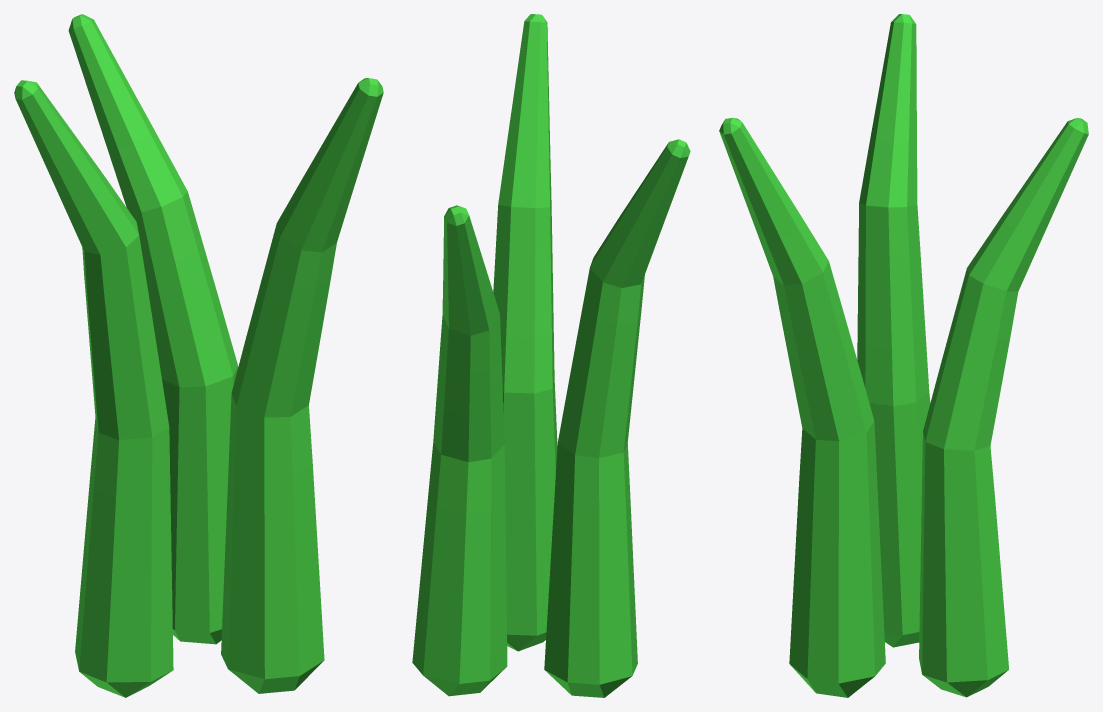
Rendered from Grass1.fbx.
The picture shows the model from 3 angles, left to right: view 1: azimuth 30°, elevation 25°; view 2: azimuth 150°, elevation 25°; view 3: azimuth 270°, elevation 25°; orthographic projection. The views are drawn at different scales.
Visible parts, largest first — view 1: Vert.002; view 2: Vert.002; view 3: Vert.002.
Boxes of the visible parts, bbox=[...] form: Vert.002: bbox=[14, 14, 383, 697]; Vert.002: bbox=[412, 14, 690, 697]; Vert.002: bbox=[719, 14, 1088, 697].
Bounding box in the file's own units: 11.48 × 25.64 × 14.58.
